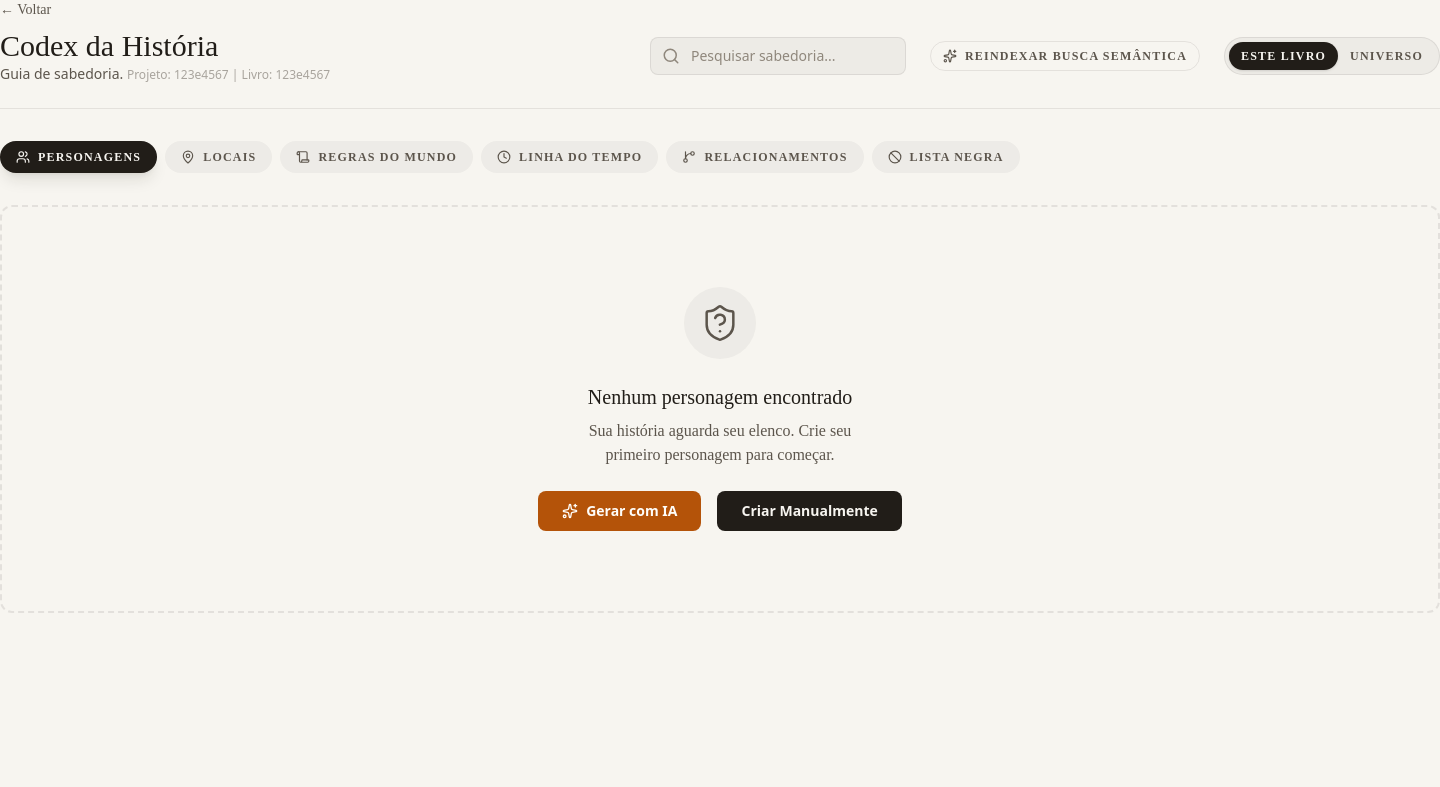
Test: CodexDashboard Modal Integration › should open SlideOver with CharacterWizard when 'Criar Personagem' is clicked
Step 1. Click the button "Criar Manualmente" → x=810, y=511, box [718,491,902,531]
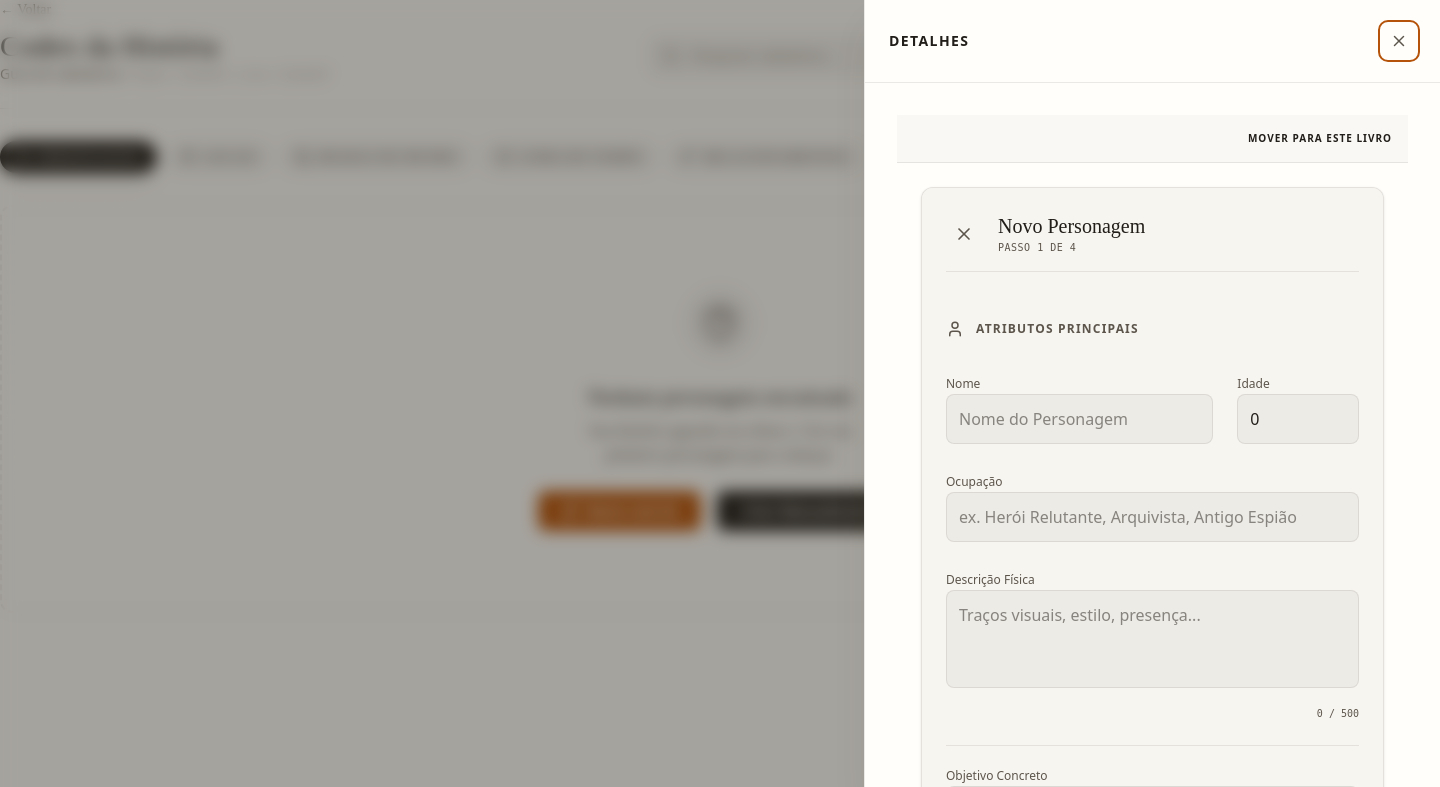
Result: the heading "Novo Personagem" is shown at [998,212,1145,240]
Result: the text "Passo 1 de 4" is shown at [998,242,1076,253]
